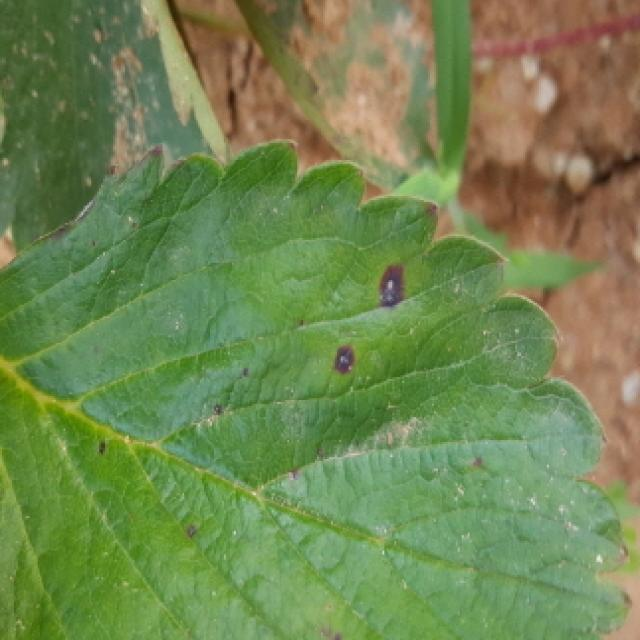Leaf Spot: (0, 140, 630, 640)
